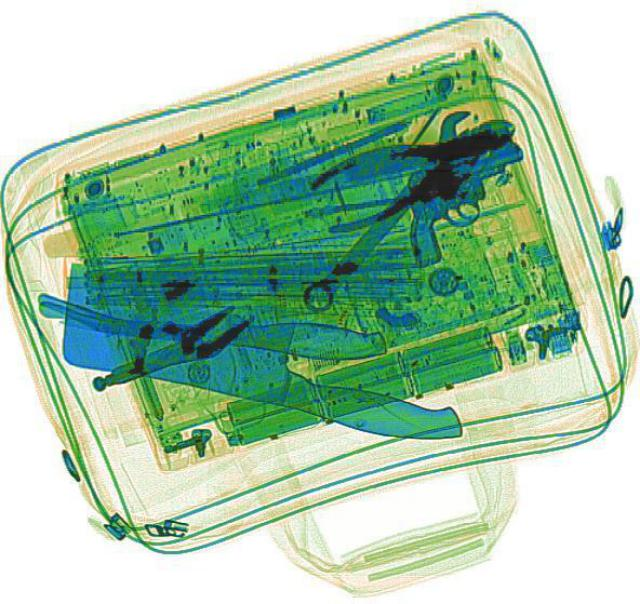Gun: (382, 137, 550, 268)
Knife: (42, 256, 486, 446), (55, 302, 385, 359)
Pliers: (299, 97, 531, 238)
Wrench: (293, 103, 492, 316)
